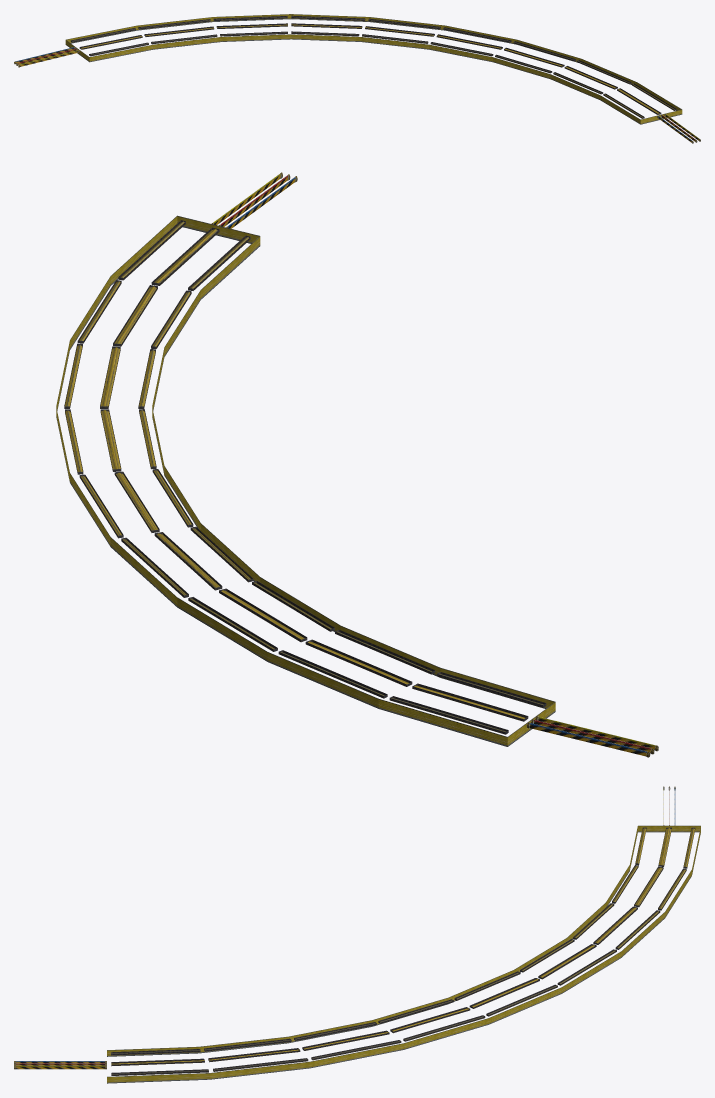
The picture shows the model from 3 angles, top to bottom: view 1: azimuth 30°, elevation 25°; view 2: azimuth 150°, elevation 25°; view 3: azimuth 270°, elevation 25°; orthographic projection. The views are drawn at different scales.
Visible parts, largest first — view 1: Object_2; view 2: Object_2; view 3: Object_2.
Part boxes in pixels (bbox=[...]): Object_2: bbox=[14, 14, 700, 143]; Object_2: bbox=[56, 172, 658, 757]; Object_2: bbox=[14, 786, 700, 1083].
Size of the model in its own units: 3700 by 40.23 by 3700.
